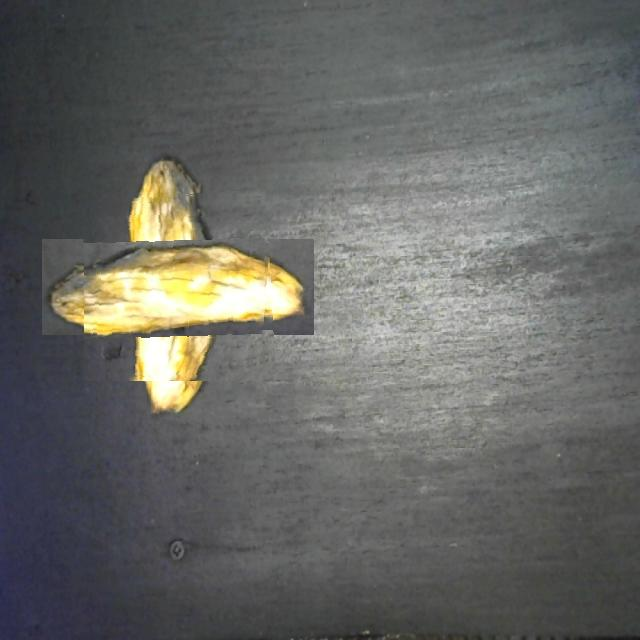biodegradable: (84, 193, 273, 381)
